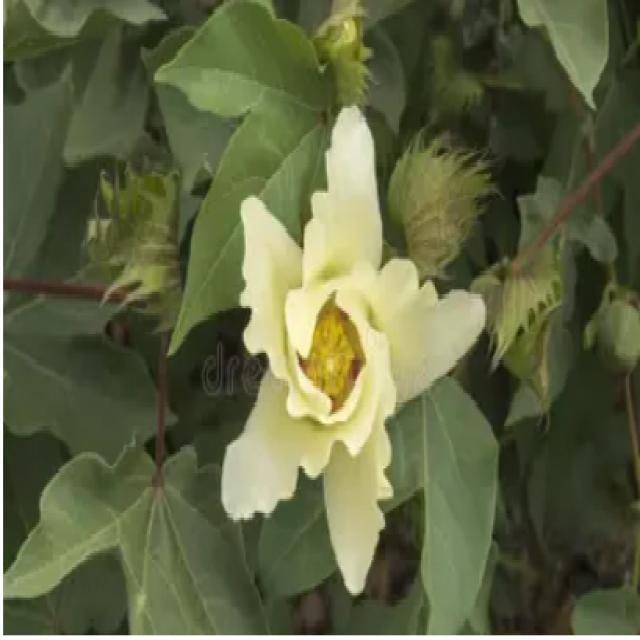Cotton Blossom: (214, 118, 488, 593)
Cotton Bud: (385, 124, 494, 271), (84, 146, 185, 300), (481, 260, 566, 374), (308, 9, 392, 114)
